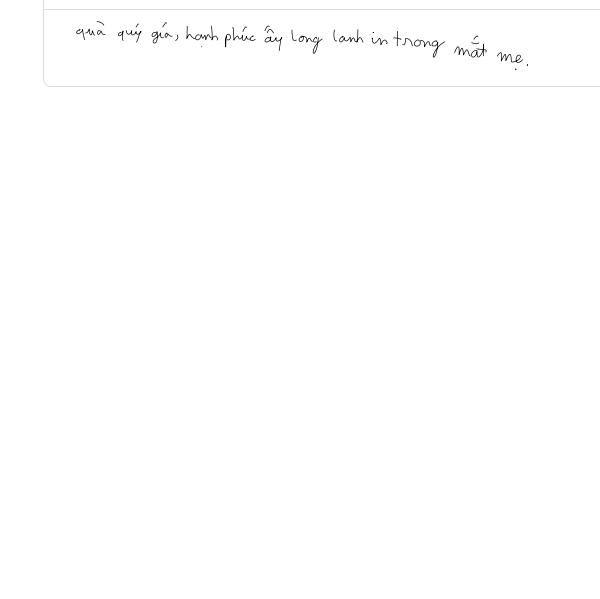text: (73, 16, 531, 75)
